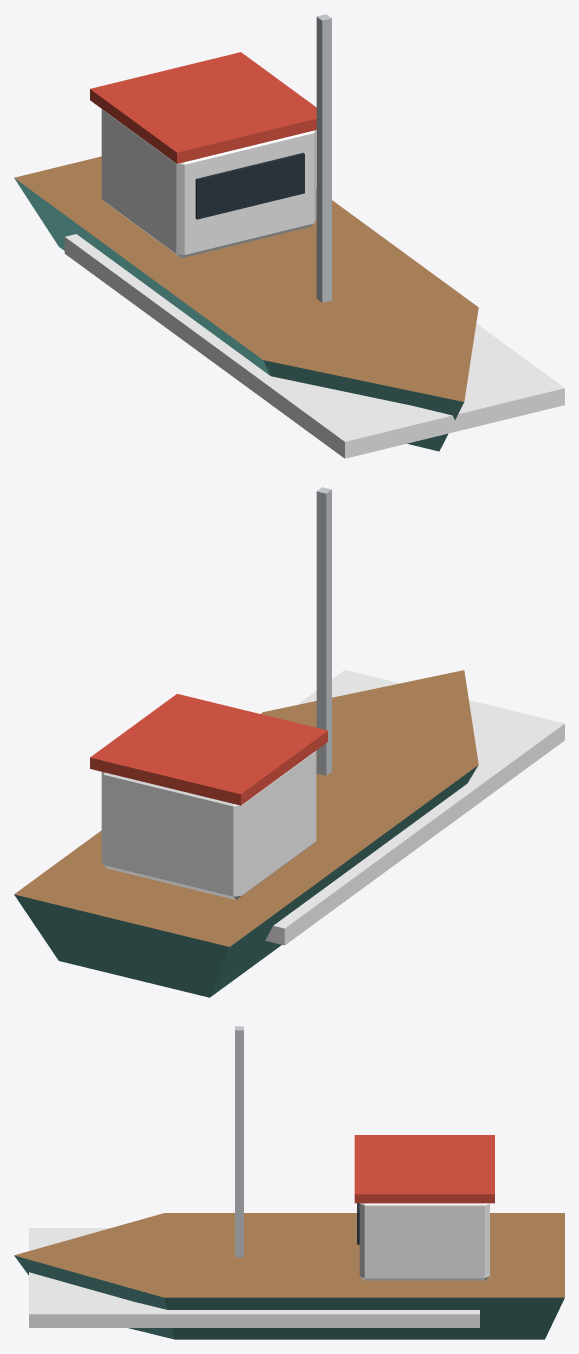
Rendered from d_boat.fbx.
The picture shows the model from 3 angles, top to bottom: view 1: azimuth 30°, elevation 25°; view 2: azimuth 150°, elevation 25°; view 3: azimuth 270°, elevation 25°; orthographic projection. The views are drawn at different scales.
Visible parts, largest first — view 1: d_boat; view 2: d_boat; view 3: d_boat.
Boxes of the visible parts, x1=… form: d_boat: x1=14, y1=14, x2=564, y2=458; d_boat: x1=14, y1=487, x2=564, y2=997; d_boat: x1=14, y1=1026, x2=564, y2=1339.
Size of the model in its own units: 4.08 by 6.2 by 11.
